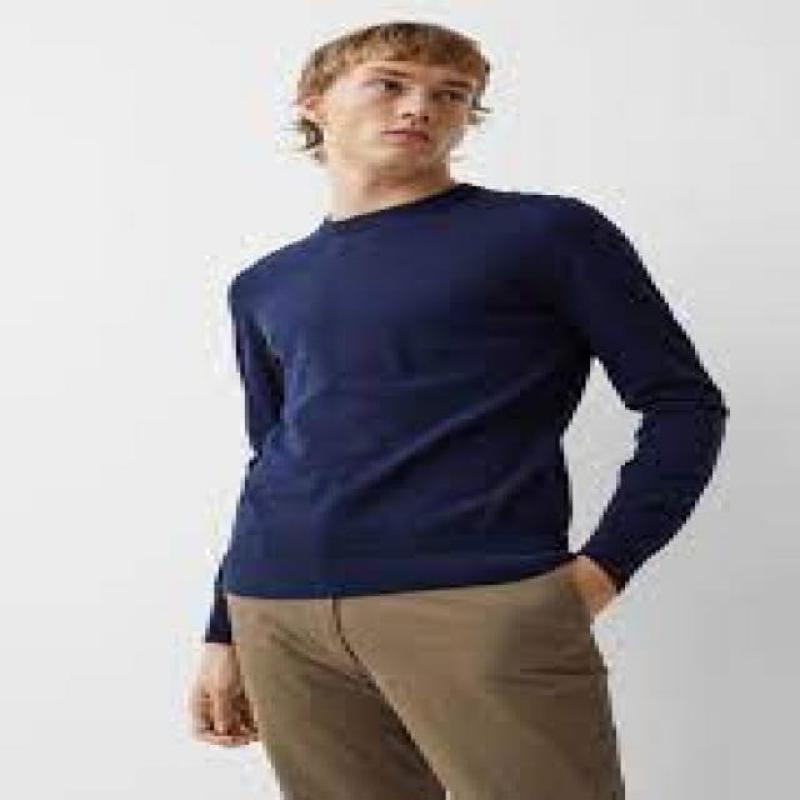sweater: (198, 185, 731, 649)
trousers: (228, 564, 626, 800)
